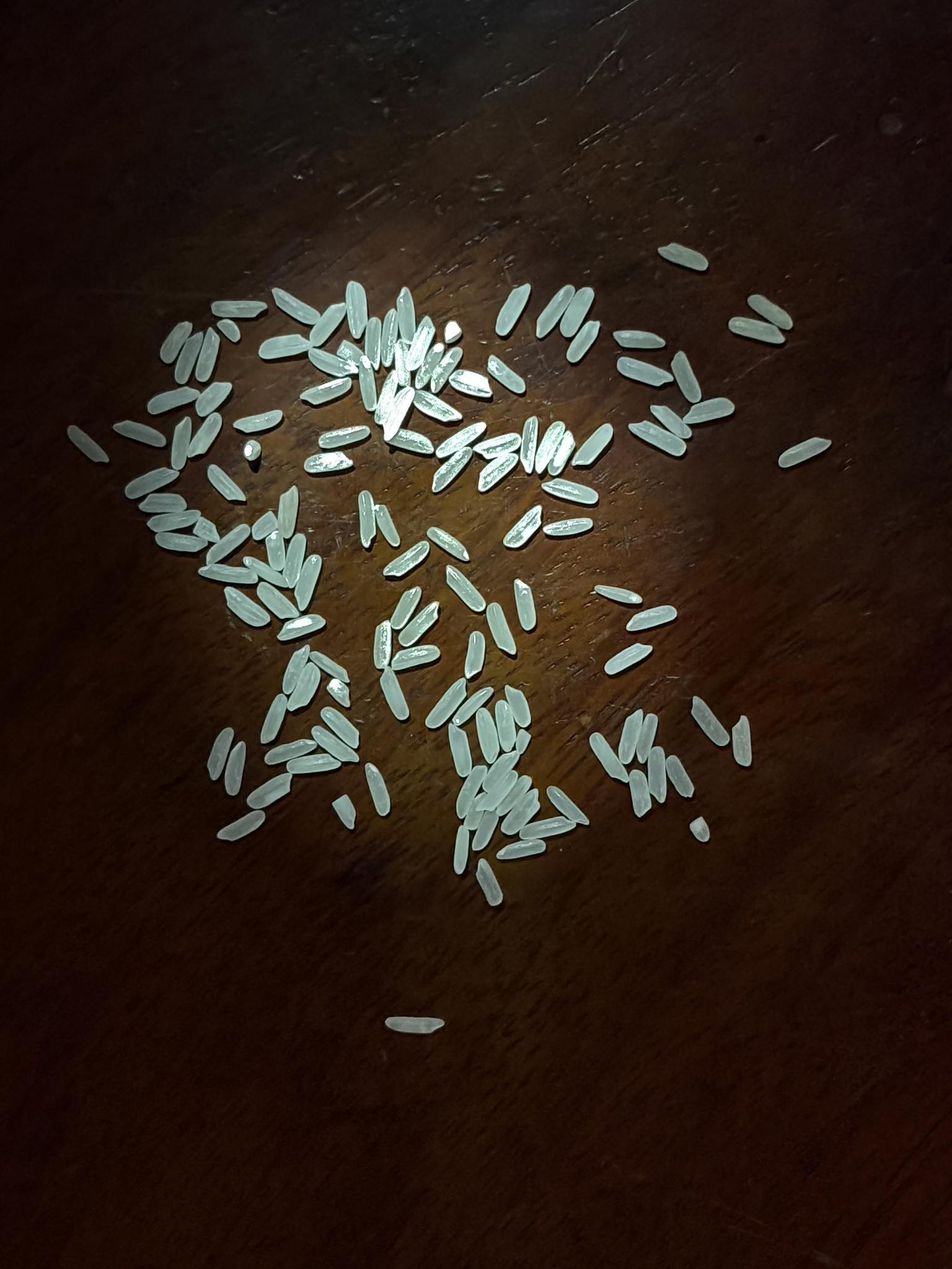Rice-th-y-nh: (423, 675, 469, 731), (628, 418, 690, 458), (532, 283, 576, 339), (490, 281, 534, 337), (429, 443, 475, 495), (688, 694, 731, 749), (222, 583, 271, 631), (271, 283, 321, 330), (338, 280, 376, 339), (375, 665, 414, 722), (257, 328, 314, 367), (198, 556, 258, 593), (682, 390, 736, 431), (206, 520, 251, 569), (667, 349, 706, 405), (529, 419, 568, 475), (300, 371, 353, 412), (290, 554, 327, 612), (444, 565, 487, 614), (612, 709, 650, 764), (254, 692, 293, 745), (307, 300, 349, 349), (191, 327, 227, 384), (275, 608, 326, 648), (201, 725, 238, 780), (396, 602, 440, 648), (286, 661, 324, 714), (746, 291, 795, 332), (639, 745, 673, 804), (512, 415, 546, 474), (349, 490, 384, 547), (218, 740, 253, 797), (310, 725, 361, 764), (360, 762, 396, 817), (544, 784, 591, 826), (558, 286, 595, 339), (588, 732, 628, 781), (727, 313, 786, 346), (572, 422, 615, 467), (381, 387, 416, 442), (277, 643, 314, 695), (435, 421, 487, 458), (209, 293, 267, 326), (382, 539, 431, 578), (442, 722, 476, 778), (470, 857, 508, 907), (501, 505, 544, 549), (271, 485, 306, 539), (285, 747, 342, 780), (184, 412, 224, 459), (255, 581, 302, 621), (232, 404, 284, 440), (123, 465, 178, 499), (277, 532, 311, 587), (320, 705, 362, 749), (500, 791, 541, 836), (453, 764, 487, 818), (216, 807, 267, 843), (372, 309, 403, 368), (245, 772, 293, 810), (508, 578, 543, 630), (616, 355, 671, 388), (390, 286, 423, 341), (480, 749, 521, 793), (477, 771, 521, 812), (484, 602, 518, 655), (725, 715, 759, 768), (350, 355, 382, 411), (371, 369, 403, 425), (542, 475, 599, 506), (777, 436, 832, 468), (603, 641, 653, 676), (657, 240, 710, 273), (172, 331, 204, 385), (612, 323, 666, 355), (649, 402, 693, 441), (413, 388, 462, 423), (426, 525, 471, 563), (303, 445, 354, 478), (473, 705, 502, 763), (429, 346, 464, 394), (205, 463, 247, 503), (478, 452, 520, 492), (452, 687, 495, 726), (624, 603, 678, 634), (357, 316, 388, 370), (623, 769, 657, 818), (242, 554, 289, 589), (66, 425, 109, 463), (565, 319, 602, 363), (458, 630, 491, 679), (138, 487, 187, 520), (263, 736, 315, 767), (166, 416, 195, 471), (496, 773, 532, 817), (501, 683, 536, 728), (317, 423, 371, 452), (113, 419, 167, 448), (486, 355, 525, 395), (146, 385, 198, 415), (394, 421, 435, 459), (388, 586, 423, 630), (403, 323, 435, 371), (193, 380, 233, 418), (365, 621, 396, 670), (307, 347, 356, 378), (159, 320, 193, 364), (518, 815, 574, 841), (145, 508, 201, 534), (446, 825, 475, 875), (309, 649, 351, 683), (633, 713, 661, 764), (664, 753, 695, 798), (391, 644, 442, 671), (385, 1013, 444, 1036), (416, 342, 446, 387), (471, 808, 500, 852), (493, 700, 518, 751), (154, 530, 207, 554), (497, 837, 547, 862), (374, 504, 402, 547), (261, 532, 290, 573), (329, 793, 360, 831), (594, 582, 643, 606), (388, 343, 415, 386), (551, 430, 577, 474), (542, 516, 593, 538), (454, 367, 492, 394), (463, 792, 489, 831), (481, 436, 522, 460), (250, 510, 279, 542), (280, 613, 324, 634), (475, 431, 520, 451), (192, 515, 222, 544), (326, 678, 352, 709), (215, 317, 243, 343), (337, 338, 364, 363), (688, 815, 712, 843), (241, 438, 264, 463), (442, 319, 464, 344), (513, 728, 532, 755)
